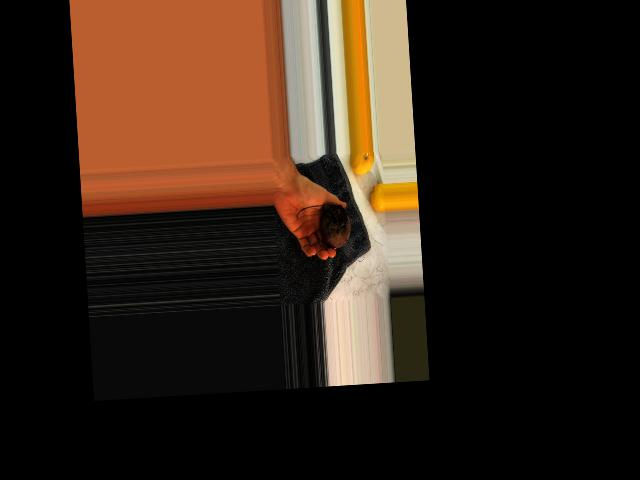beet: (296, 204, 352, 251)
